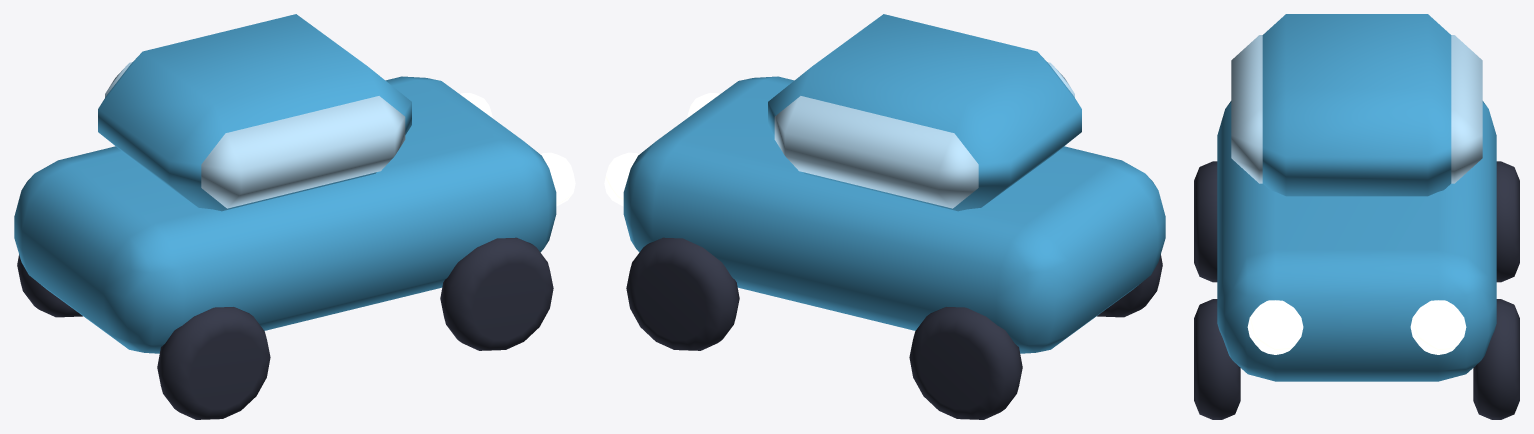
File: car_blue.glb
3 views of the same model, side by side, from view 1: azimuth 30°, elevation 25°; view 2: azimuth 150°, elevation 25°; view 3: azimuth 270°, elevation 25° (orthographic).
Visible parts, largest first — view 1: Cube; view 2: Cube; view 3: Cube.
Boxes of the visible parts, x1,y1,x2,y2 form: Cube: (14, 14, 575, 419); Cube: (604, 14, 1165, 419); Cube: (1194, 14, 1519, 419).
Bounding box in the file's own units: 0.232 × 0.1325 × 0.14.
